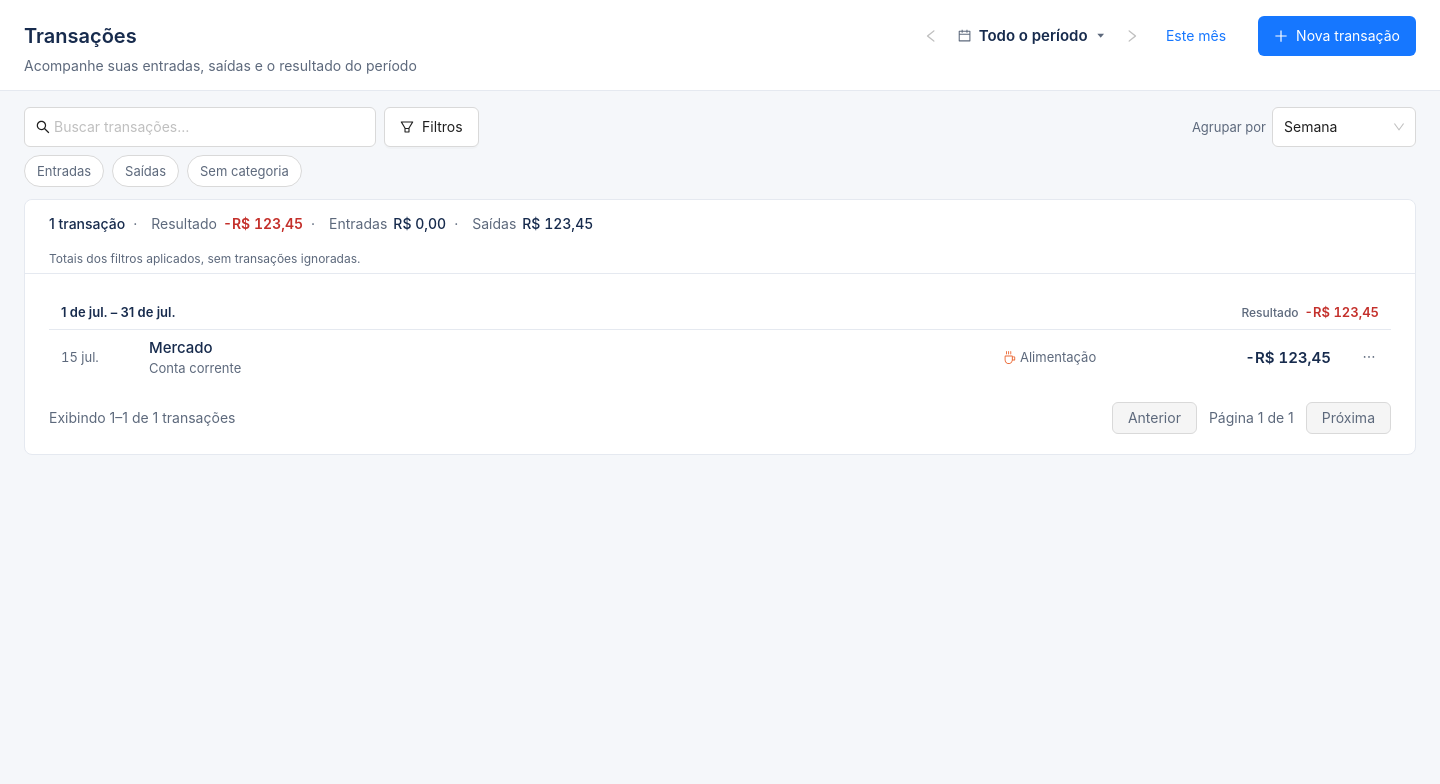
Test case: TransactionsPage › shows a failed write inside the panel, next to the control, with a retry
The width and height of the screenshot is (1440, 784).
What coordinates should you click on to do the following:
click the button with aria-label "Ver detalhes de Mercado"
I would click on:
 (181, 347)
Its box is x1=149 y1=338 x2=987 y2=358.
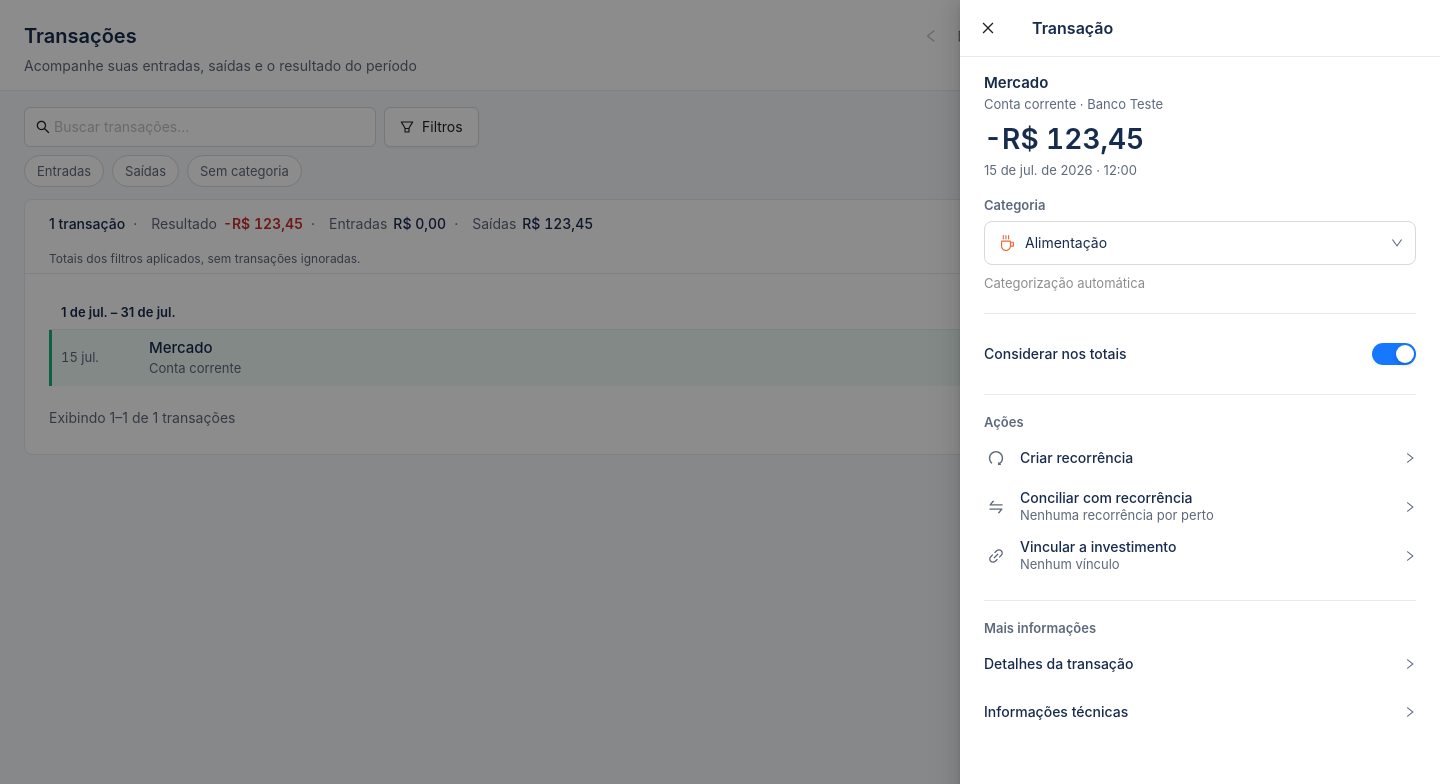
What coordinates should you click on to do the following:
click the switch named "Considerar nos totais"
I would click on:
 (1394, 354)
Its box is x1=1372 y1=343 x2=1416 y2=365.
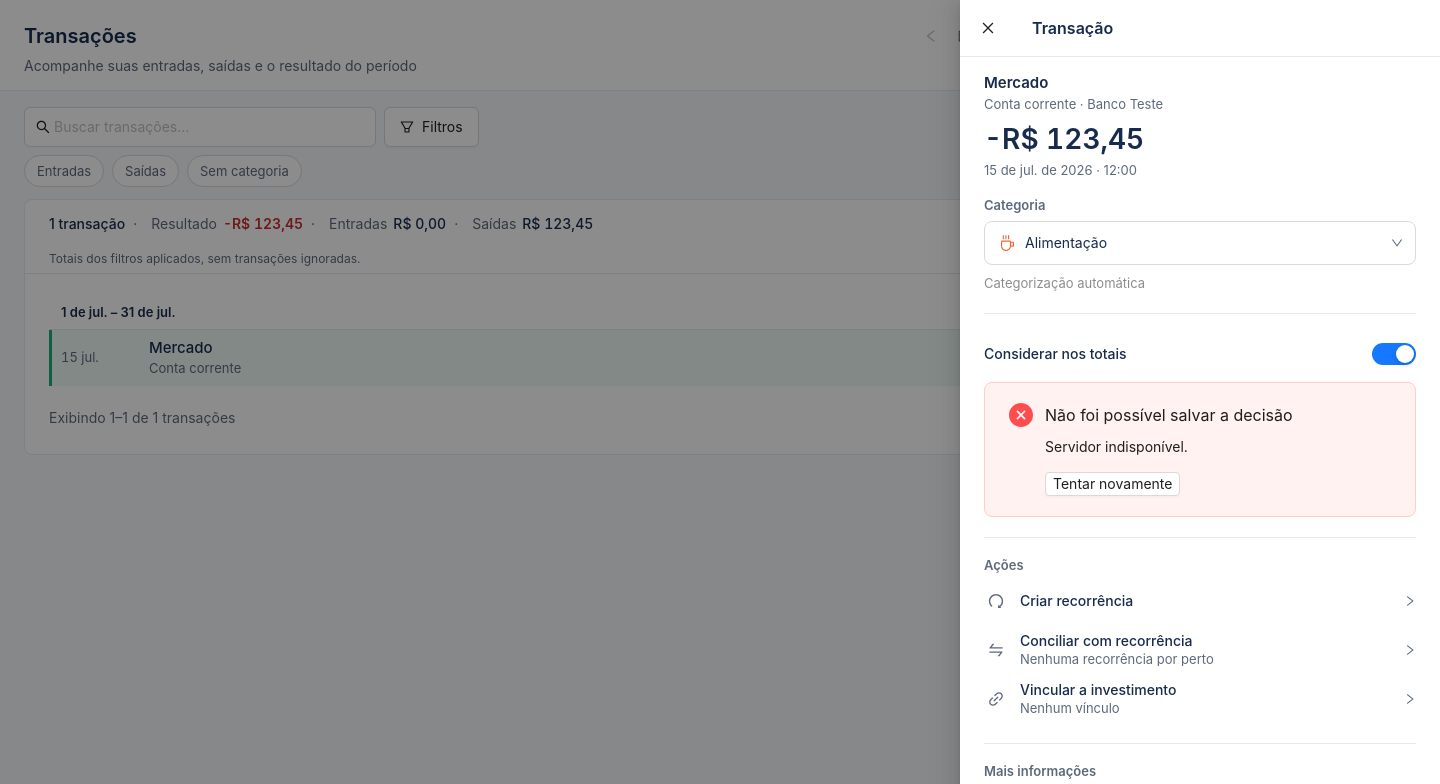
Result: the text "Não foi possível salvar a decisão" is shown at x1=1045 y1=405 x2=1292 y2=425
Result: the text "Servidor indisponível." is shown at x1=1045 y1=438 x2=1188 y2=456
Result: the button "Tentar novamente" is shown at x1=1045 y1=472 x2=1180 y2=496
